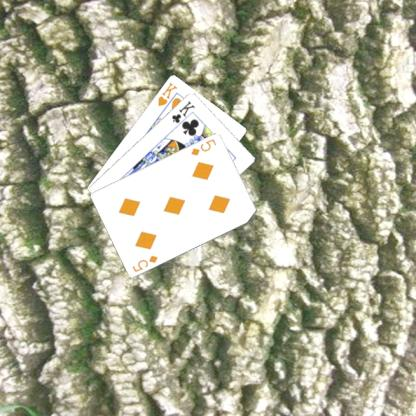5D: (129, 252, 160, 273), (188, 135, 218, 156)
KC: (168, 97, 196, 130)
KH: (154, 79, 178, 107)
